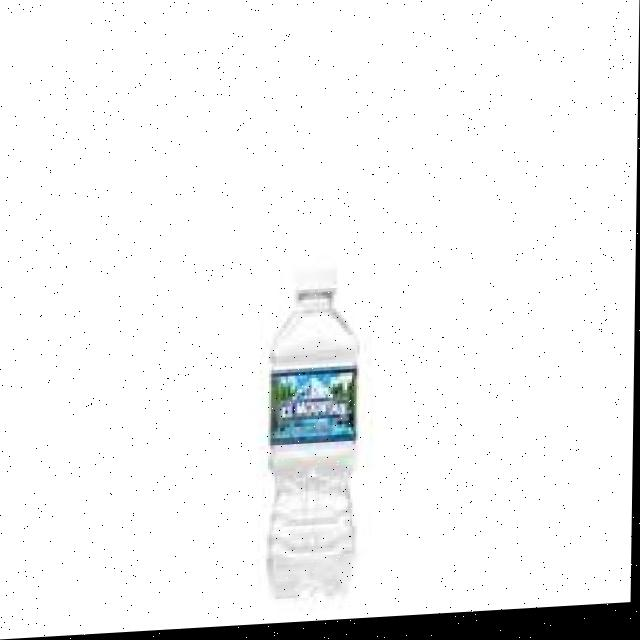bottle: (252, 251, 394, 628)
